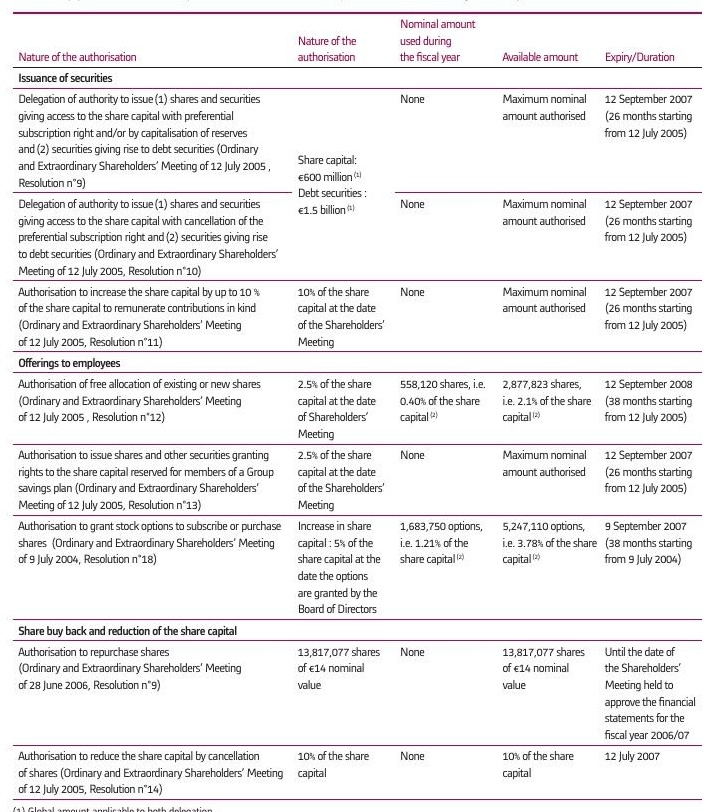table: (0, 0, 712, 812)
